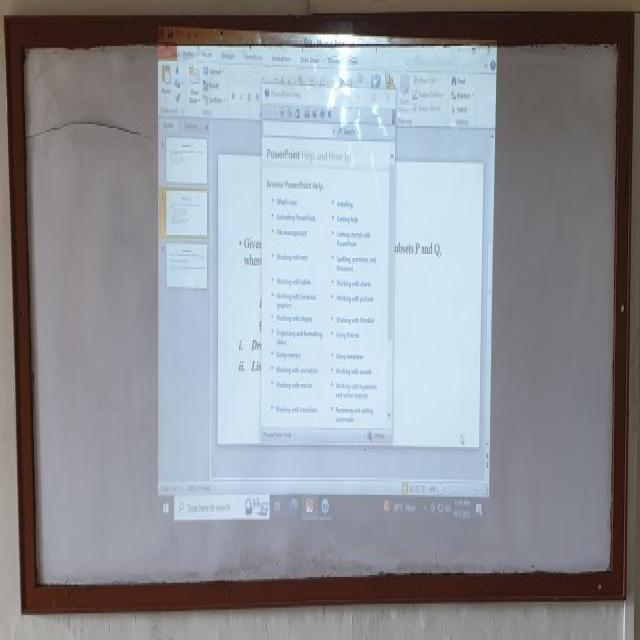Slide: (155, 23, 496, 539)
White-board: (17, 27, 627, 601)
